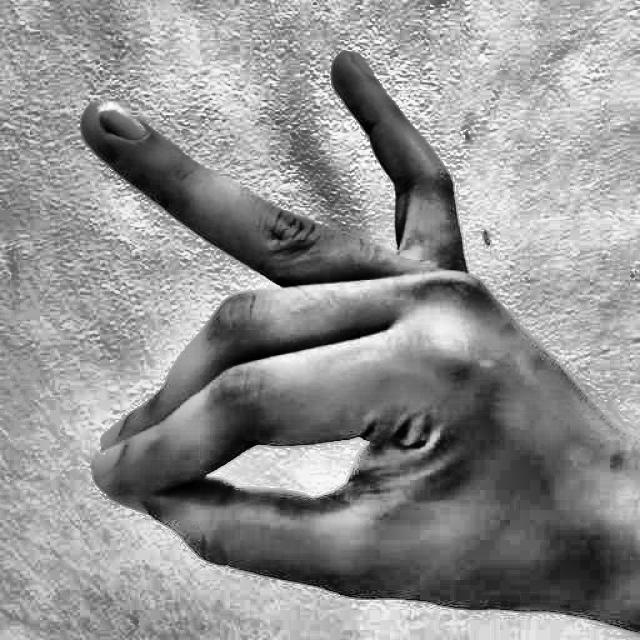Na: (46, 24, 556, 624)
